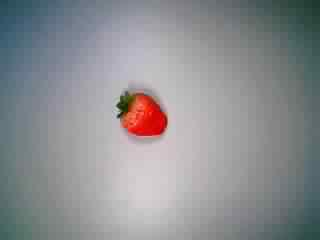strawberry: (112, 79, 171, 149)
